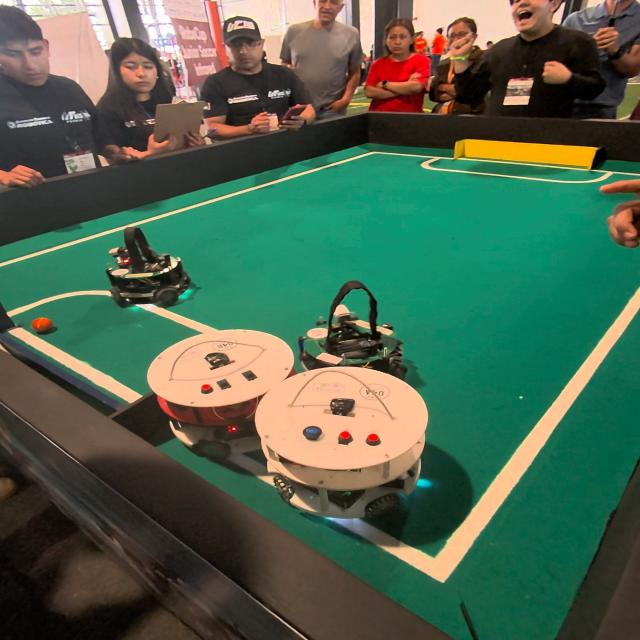Robot: (249, 360, 431, 526), (134, 329, 290, 462), (300, 274, 410, 382), (100, 222, 200, 312)
pelota: (31, 315, 56, 334)
